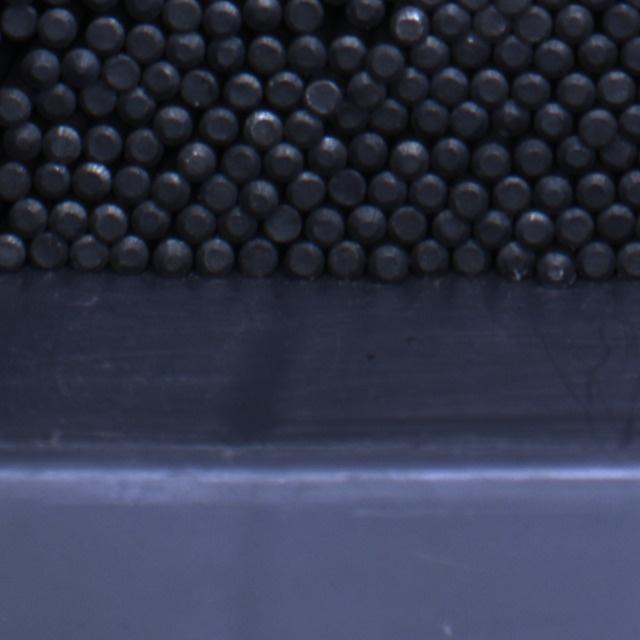tool: (496, 240, 537, 282), (152, 168, 193, 208), (449, 178, 490, 218), (556, 72, 597, 112), (153, 236, 194, 276), (490, 98, 531, 138), (305, 136, 347, 175), (42, 122, 82, 162), (178, 141, 218, 181), (88, 201, 128, 241), (37, 6, 77, 46), (238, 237, 278, 277), (50, 198, 90, 238), (389, 138, 429, 178), (154, 102, 194, 142), (131, 198, 172, 237), (554, 2, 594, 41), (409, 172, 449, 211), (304, 207, 344, 246), (244, 109, 284, 148), (553, 207, 593, 246), (433, 2, 473, 41), (222, 142, 262, 181), (473, 208, 513, 247), (348, 203, 388, 242), (472, 139, 512, 178), (432, 137, 471, 177), (287, 34, 326, 74), (538, 249, 578, 288), (347, 70, 388, 108), (71, 163, 112, 201), (175, 204, 216, 242), (390, 5, 431, 43), (283, 109, 324, 147), (370, 169, 409, 208), (109, 235, 148, 274), (180, 66, 219, 105), (265, 70, 304, 109), (328, 239, 367, 278), (329, 34, 368, 73), (3, 120, 42, 159), (578, 107, 618, 145), (328, 167, 368, 205), (262, 202, 302, 240), (263, 141, 303, 179), (431, 68, 471, 106), (514, 209, 554, 247), (449, 100, 489, 138), (218, 203, 258, 241), (578, 33, 618, 71), (596, 202, 636, 240), (349, 130, 389, 168), (20, 47, 60, 85), (450, 31, 491, 68), (368, 243, 409, 280), (240, 178, 279, 216), (70, 233, 109, 271), (85, 123, 124, 161), (86, 14, 125, 52), (288, 169, 326, 208), (575, 170, 614, 208), (284, 240, 323, 278), (493, 175, 532, 213), (200, 104, 239, 142), (578, 240, 616, 279), (472, 68, 511, 106), (195, 237, 234, 275), (167, 28, 206, 66), (388, 205, 428, 242), (512, 5, 552, 42), (534, 101, 574, 138), (512, 70, 552, 107), (225, 70, 265, 107), (410, 34, 450, 71), (368, 97, 408, 134), (536, 39, 576, 76), (558, 133, 598, 170), (532, 172, 572, 209), (514, 136, 552, 174), (126, 127, 164, 165), (144, 60, 182, 98), (64, 47, 102, 85), (410, 238, 448, 276), (433, 208, 472, 245), (249, 36, 288, 73), (11, 197, 50, 234), (451, 240, 490, 277), (30, 232, 70, 268), (492, 36, 532, 72), (410, 98, 450, 134), (104, 53, 142, 90), (127, 22, 165, 59), (199, 174, 237, 211), (0, 0, 37, 38), (600, 68, 638, 105), (392, 66, 430, 103), (210, 34, 247, 72), (368, 42, 407, 78), (38, 83, 77, 119), (600, 135, 640, 170), (113, 163, 150, 200), (36, 163, 73, 200), (305, 78, 343, 114), (604, 0, 640, 38), (474, 3, 512, 39), (81, 81, 119, 117), (120, 84, 158, 119), (203, 0, 241, 33), (0, 160, 31, 200), (284, 0, 324, 30), (0, 85, 31, 123), (242, 0, 284, 28), (345, 0, 386, 28), (163, 0, 202, 29), (334, 100, 369, 132), (0, 231, 26, 268), (618, 103, 640, 142), (619, 167, 640, 207), (618, 240, 640, 278), (122, 0, 165, 17), (622, 33, 640, 72), (492, 0, 534, 13), (453, 0, 492, 9), (532, 0, 574, 8)
